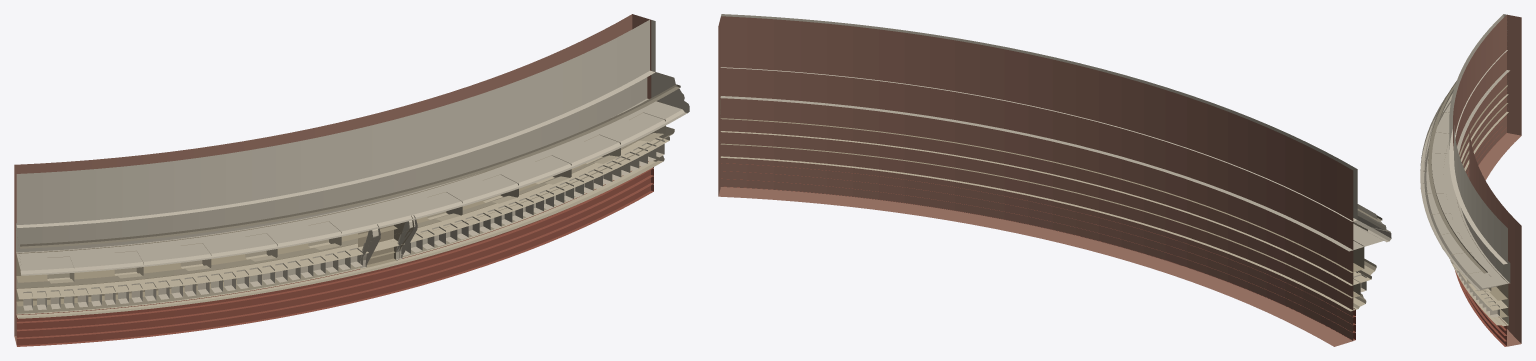
Rendered from hongkou-little-pearce-apartments-curved-cornice-lod.glb.
3 views of the same model, side by side, from view 1: azimuth 30°, elevation 25°; view 2: azimuth 150°, elevation 25°; view 3: azimuth 270°, elevation 25° (orthographic). The views are drawn at different scales.
Parts seen in each view (by area): view 1: 小浦西公寓塘沽路圆角檐带与齿饰; view 2: 小浦西公寓塘沽路圆角檐带与齿饰; view 3: 小浦西公寓塘沽路圆角檐带与齿饰.
Boxes of the visible parts, x1,y1,x2,y2 form: 小浦西公寓塘沽路圆角檐带与齿饰: [14, 14, 689, 346]; 小浦西公寓塘沽路圆角檐带与齿饰: [718, 14, 1391, 346]; 小浦西公寓塘沽路圆角檐带与齿饰: [1420, 14, 1521, 346].
Size of the model in its own units: 6.33 by 1.55 by 1.21.
